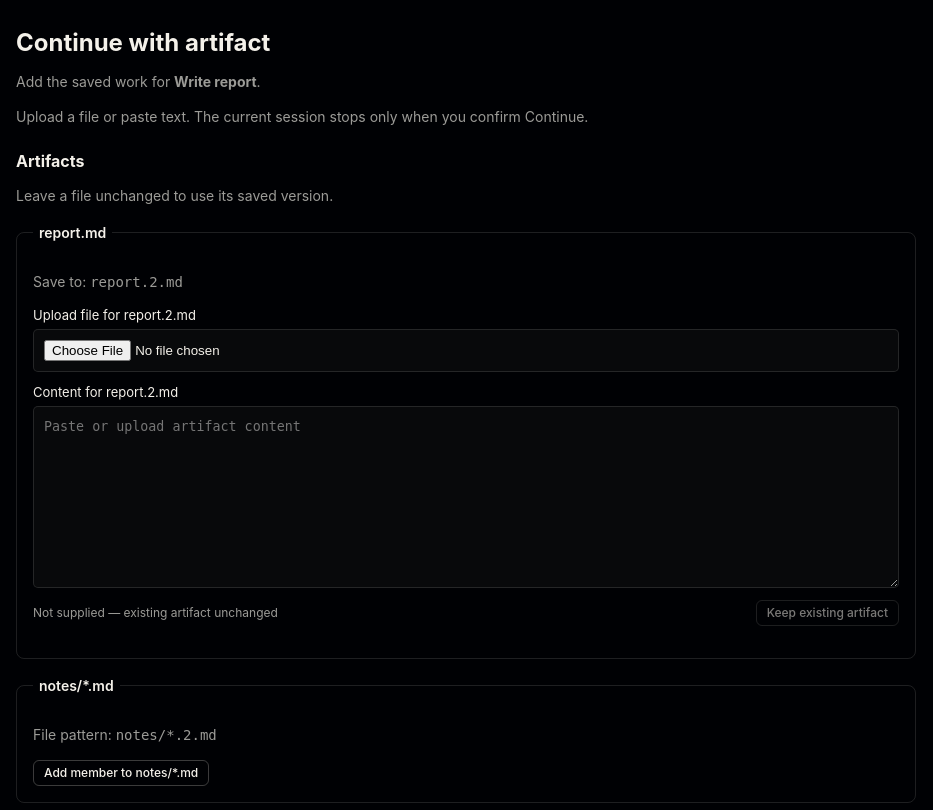
Test: ArtifactHandoffPage › requires concrete safe family members and permits removing all members
Click the button "Add member to notes/*.md" at (121,773), box [33,760,209,786]
(page scrolled)
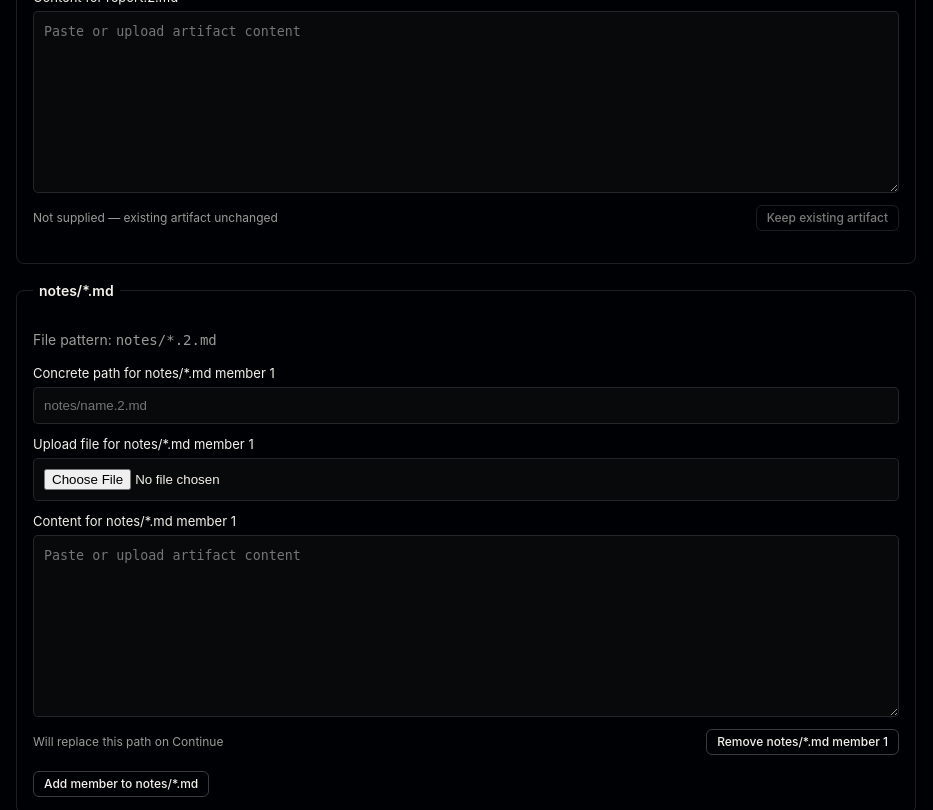
Type "notes/../escape.2.md" into the field labelled "Concrete path for notes/*.md member 1" at (466,405), box [33,387,899,424]
Replace the text in the field labelled "Concrete path for notes/*.md member 1" with "notes/first.2.md" at (466,405), box [33,387,899,424]
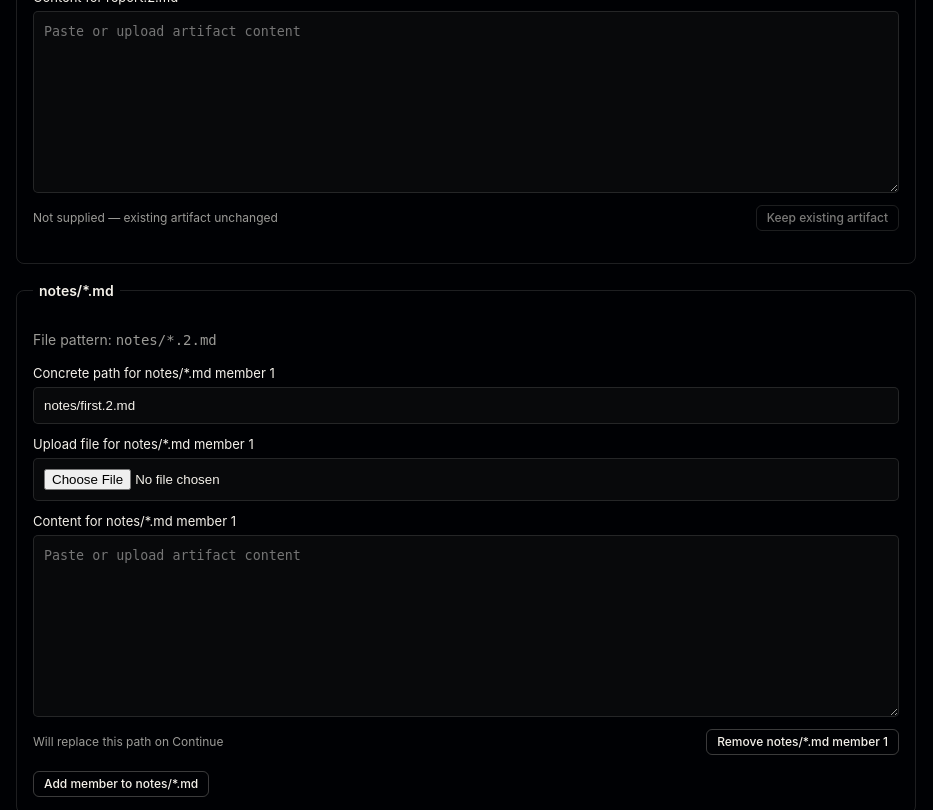
Type "# Note" into the text box labelled "Content for notes/*.md member 1" at (466,626), box [33,535,899,717]
(page scrolled)
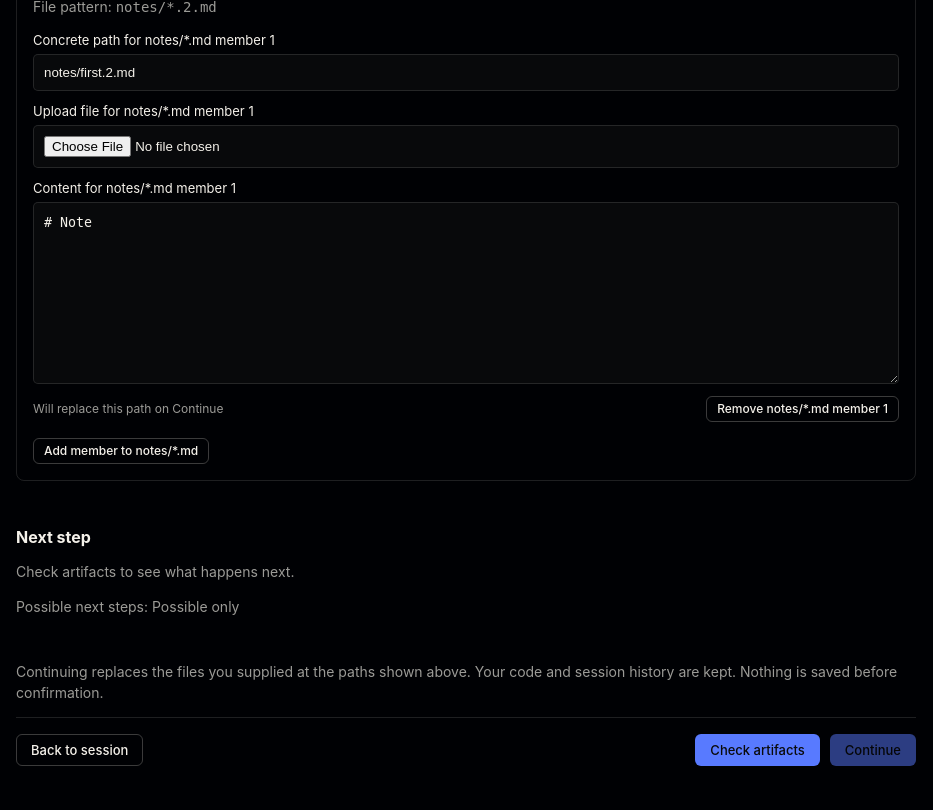
Click the button "Check artifacts" at (758,750), box [695,734,820,766]
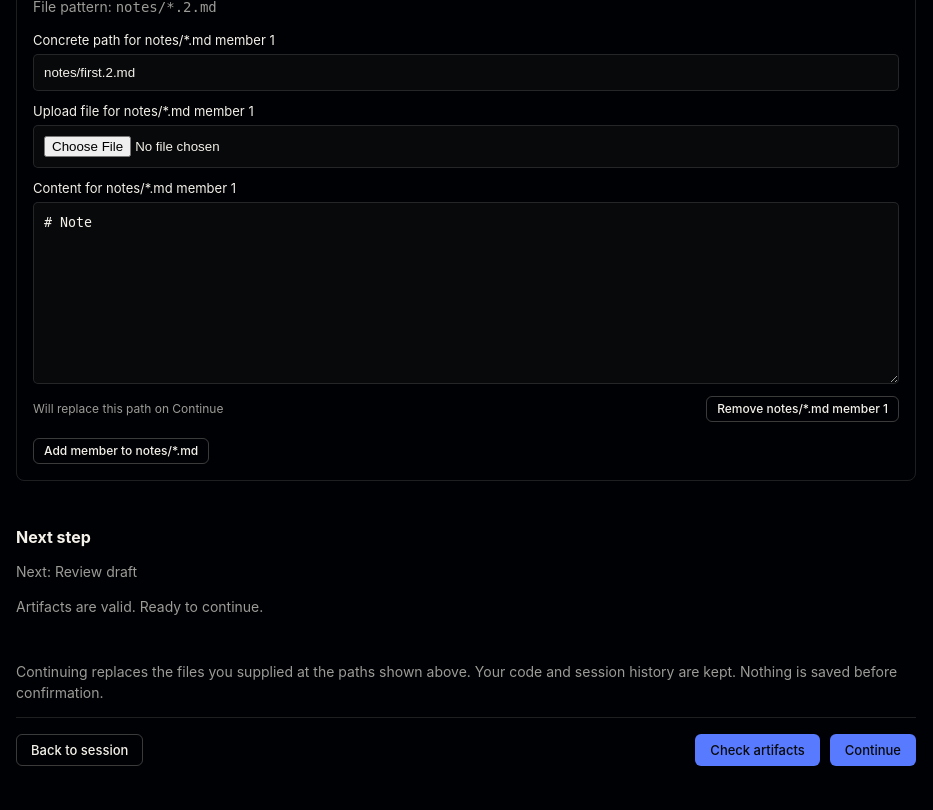
Now the text "Artifacts are valid. Ready to continue." is shown, box [16,598,263,615]
Click the button "Remove notes/*.md member 1" at (803,409), box [706,396,899,422]
(page scrolled)
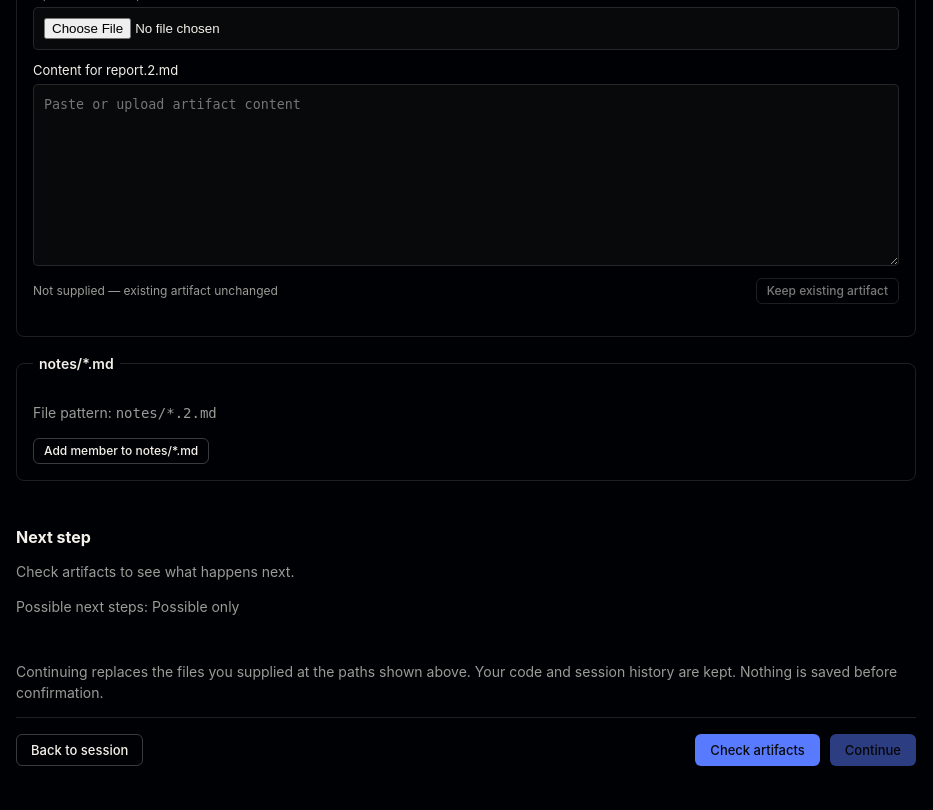
Now the button "Continue" is disabled, box [830,734,916,766]
Click the button "Check artifacts" at (758,750), box [695,734,820,766]
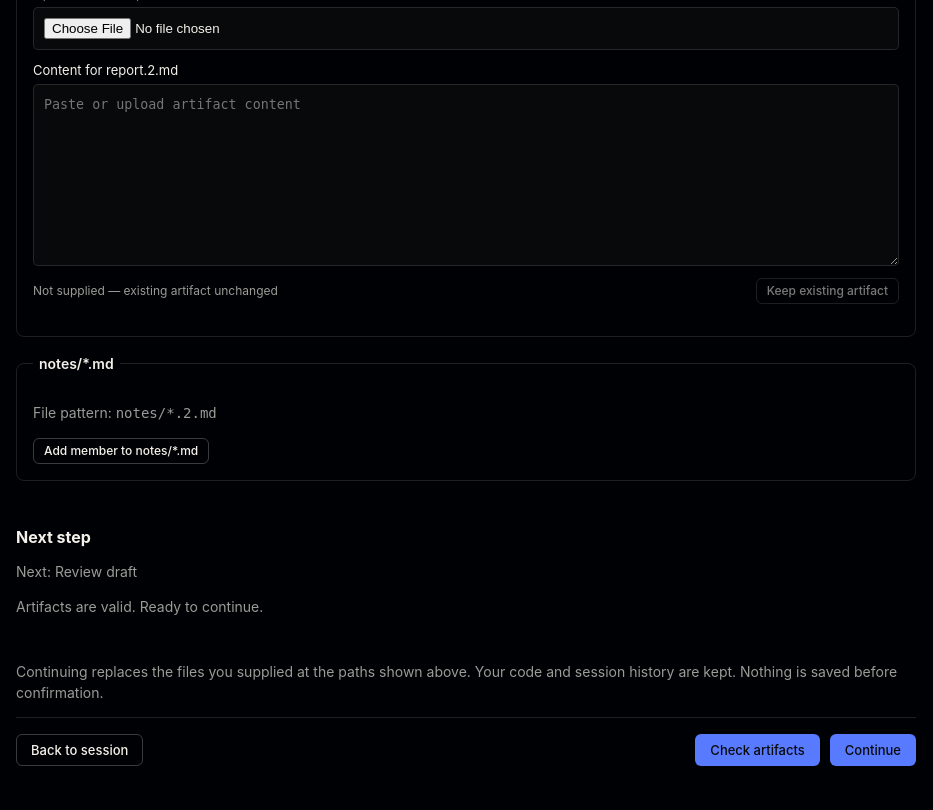
Now the text "Artifacts are valid. Ready to continue." is shown, box [16,598,263,615]
